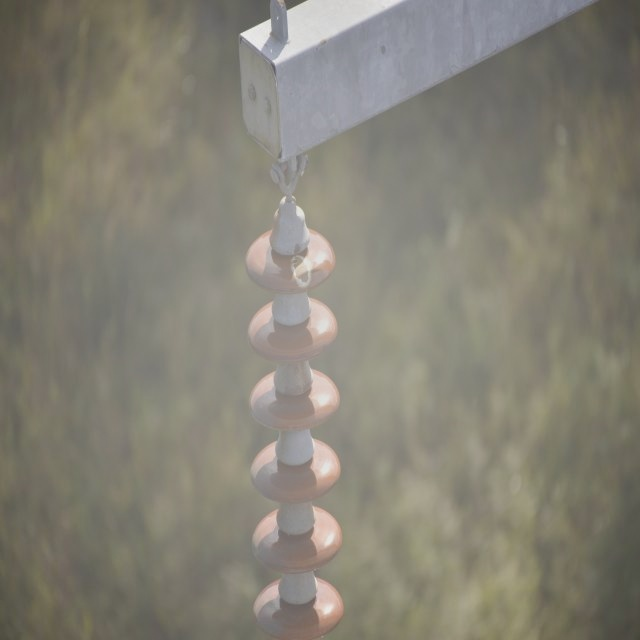insulator: (244, 223, 343, 637)
